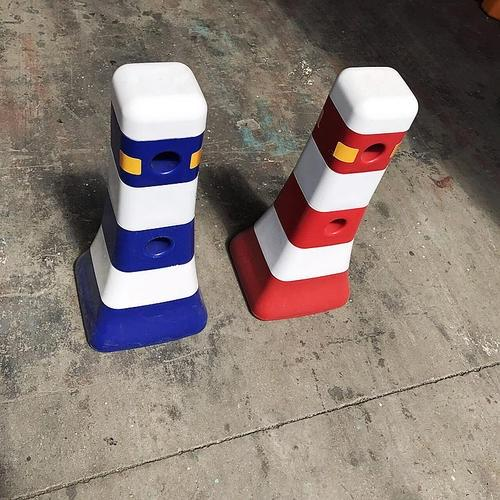cone_barrel: (227, 54, 422, 314), (66, 64, 221, 348)
